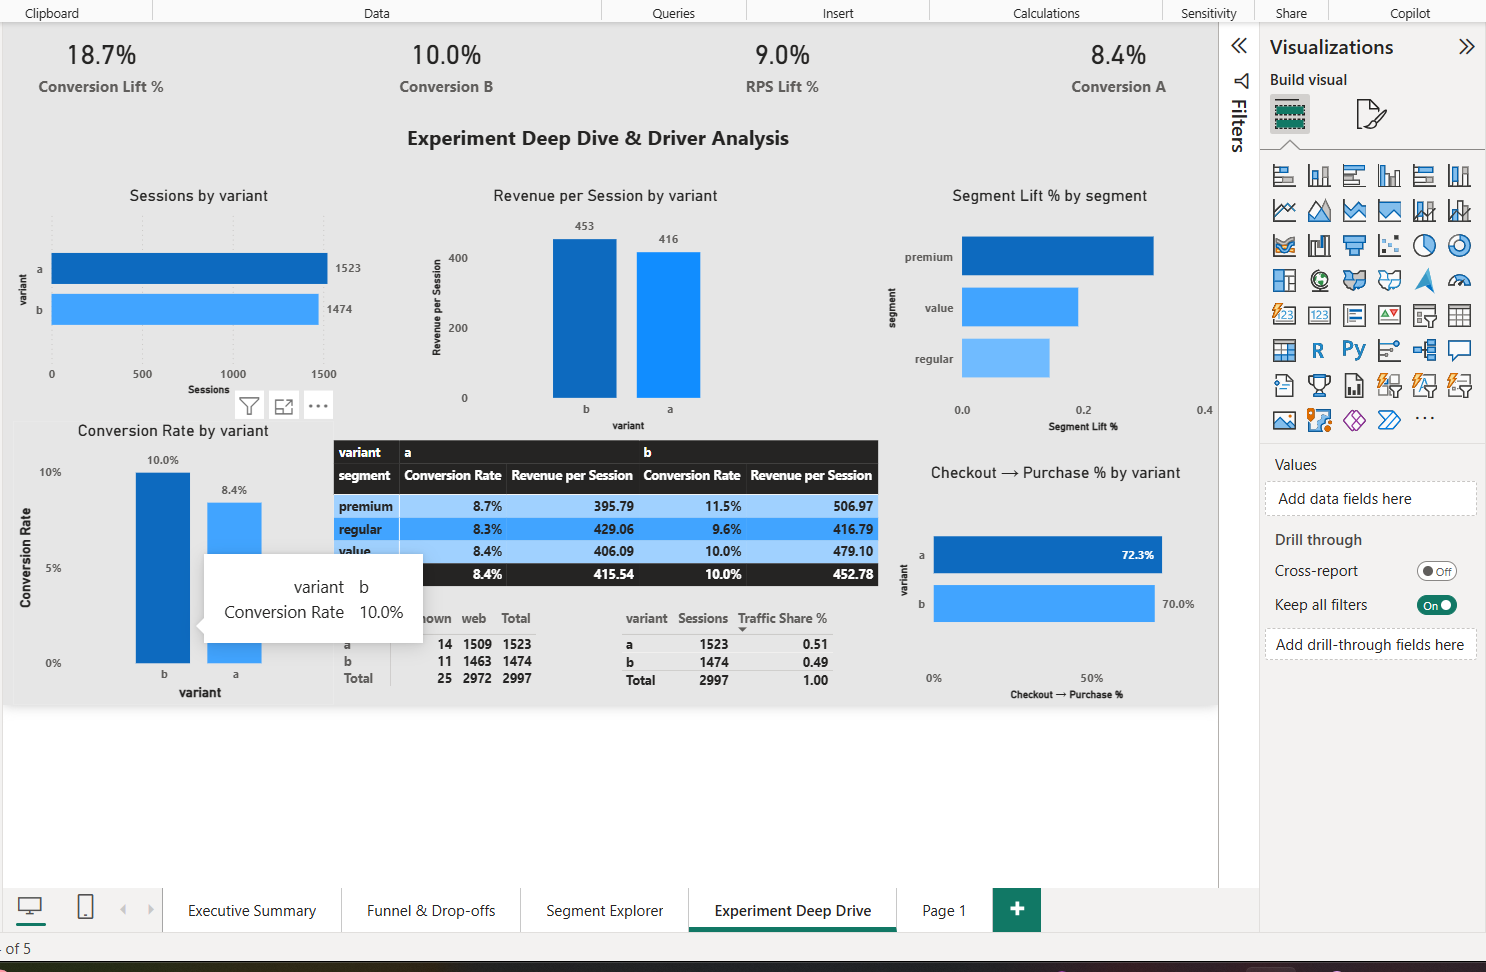

What the dashboard file says about the page in this screenshot:
{"tool":"powerbi","page":{"name":"Experiment Deep Drive","canvas":[1280,720],"ordinal":3},"visuals":[{"type":"card","fields":{"Values":["measures_.Conversion Lift %"]},"box":[0,0,207.6,85.8],"z":0},{"type":"card","fields":{"Values":["measures_.RPS Lift %"]},"box":[718.4,1.2,207.6,84.5],"z":1},{"type":"clusteredColumnChart","fields":{"Category":["fact_sessions.variant"],"Y":["measures_.Conversion Rate"]},"box":[11.2,420.1,338.1,299.6],"z":4},{"type":"clusteredColumnChart","fields":{"Category":["fact_sessions.variant"],"Y":["measures_.Revenue per Session"]},"box":[446.2,172.8,376.6,263.5],"z":5},{"type":"pivotTable","fields":{"Rows":["dim_users_enriched.segment"],"Columns":["fact_sessions.variant"],"Values":["measures_.Conversion Rate","measures_.Revenue per Session"]},"box":[344.3,436.3,590.4,176.5],"z":6},{"type":"barChart","fields":{"Category":["dim_users_enriched.segment"],"Y":["measures_.Segment Lift %"]},"box":[926,172.8,354.2,264.8],"z":7},{"type":"card","fields":{"Values":["measures_.Conversion A"]},"box":[1072.7,0,207.6,85.8],"z":8},{"type":"card","fields":{"Values":["measures_.Conversion B"]},"box":[362.9,1.2,207.6,84.5],"z":9},{"type":"barChart","fields":{"Category":["fact_sessions.variant"],"Y":["measures_.Sessions"]},"box":[11.2,172.8,391.5,226.2],"z":10},{"type":"tableEx","fields":{"Values":["fact_sessions.variant","measures_.Sessions","measures_.Traffic Share %"]},"box":[645.1,614,280.9,105.7],"z":11},{"type":"pivotTable","fields":{"Rows":["fact_sessions.variant"],"Columns":["fact_sessions.device"],"Values":["measures_.Sessions"]},"box":[349.3,614,259.8,105.7],"z":12},{"type":"barChart","fields":{"Category":["fact_sessions.variant"],"Y":["measures_.Checkout → Purchase %"]},"box":[939.7,463.6,340.6,256.1],"z":13},{"type":"textbox","box":[207.6,101.9,837.8,48.5],"z":14}]}

Visuals, with their boxes on the page's 1280x720 design canvas (x1, y1, x2, y2). These are canvas units, not pixel positions in the 1486x972 screenshot, which may show the page scaled, cropped or inside an application window:
card - measures_.Conversion Lift %: locate(0, 0, 208, 86)
card - measures_.RPS Lift %: locate(718, 1, 926, 86)
clusteredColumnChart - fact_sessions.variant x measures_.Conversion Rate: locate(11, 420, 349, 720)
clusteredColumnChart - fact_sessions.variant x measures_.Revenue per Session: locate(446, 173, 823, 436)
pivotTable - dim_users_enriched.segment x fact_sessions.variant: locate(344, 436, 935, 613)
barChart - dim_users_enriched.segment x measures_.Segment Lift %: locate(926, 173, 1280, 438)
card - measures_.Conversion A: locate(1073, 0, 1280, 86)
card - measures_.Conversion B: locate(363, 1, 570, 86)
barChart - fact_sessions.variant x measures_.Sessions: locate(11, 173, 403, 399)
tableEx - fact_sessions.variant x measures_.Sessions: locate(645, 614, 926, 720)
pivotTable - fact_sessions.variant x fact_sessions.device: locate(349, 614, 609, 720)
barChart - fact_sessions.variant x measures_.Checkout → Purchase %: locate(940, 464, 1280, 720)
textbox: locate(208, 102, 1045, 150)
